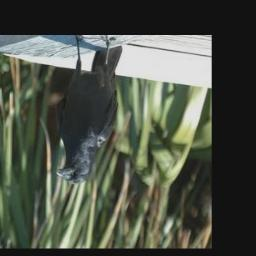Crow: (56, 36, 122, 185)
